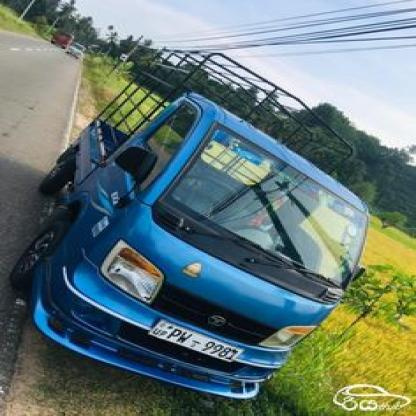Lorry front: (12, 45, 382, 406)
number plate: (148, 317, 243, 370)
